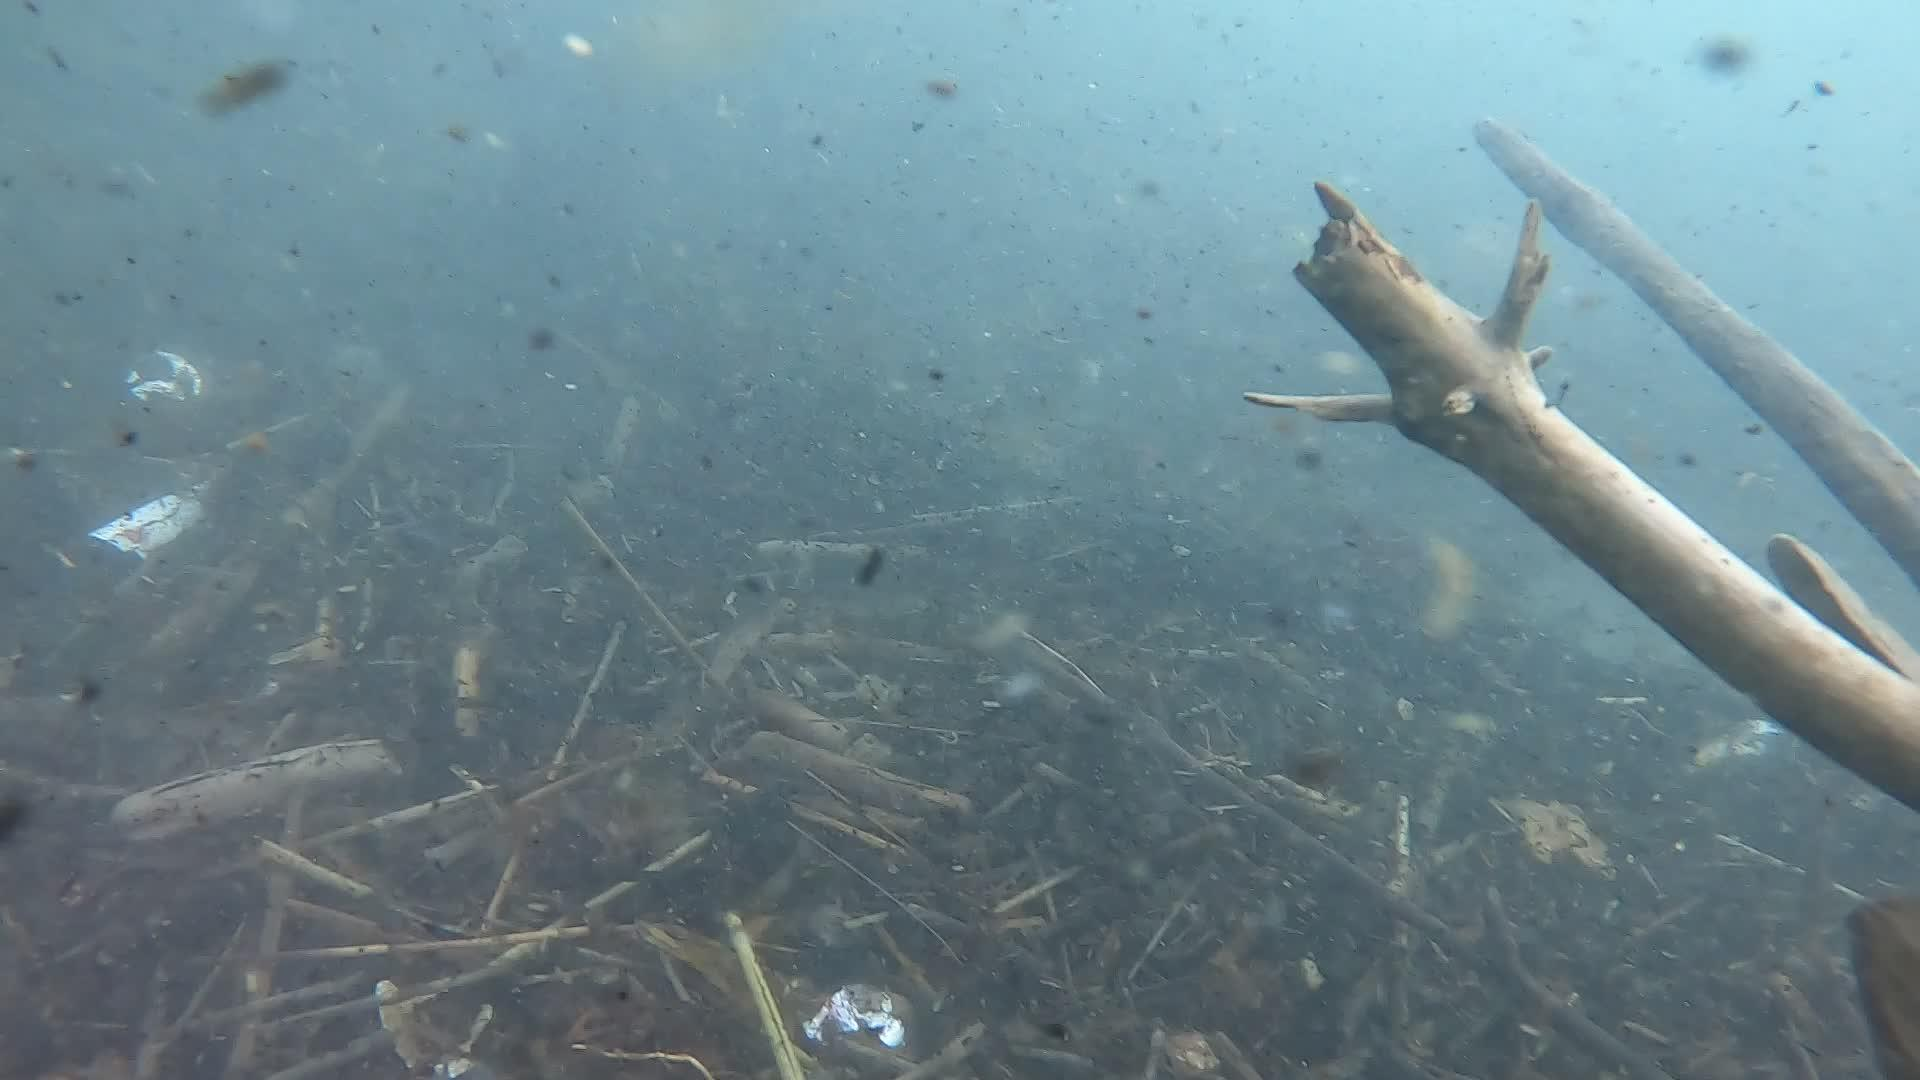wood: (1244, 179, 1920, 811), (1469, 113, 1920, 588)
